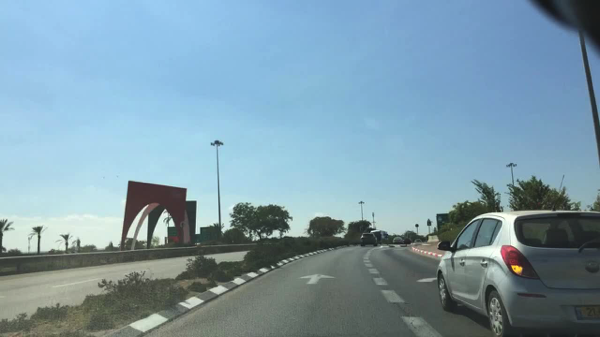car: (435, 209, 598, 336), (359, 231, 376, 247), (370, 230, 383, 245), (392, 236, 403, 244), (403, 237, 411, 244), (414, 238, 422, 244)
person: (383, 232, 389, 247)
traffic sign: (199, 226, 219, 241), (167, 226, 178, 236), (195, 233, 201, 242), (426, 218, 431, 226), (414, 223, 418, 228)
